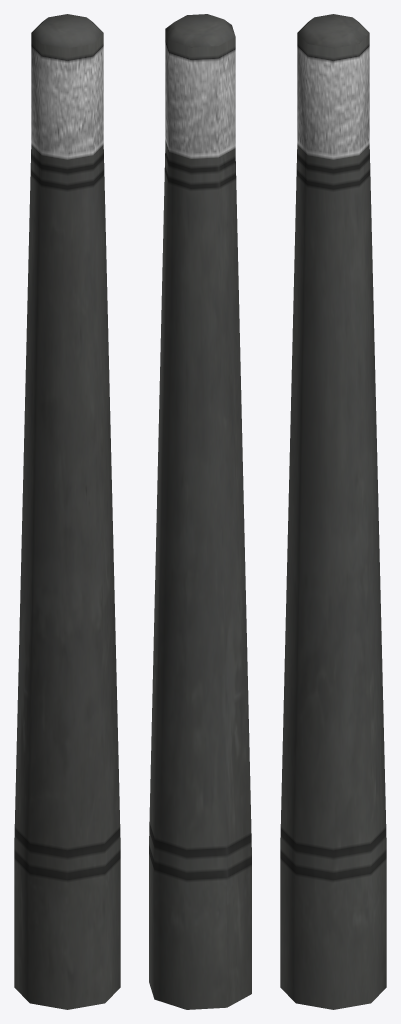
Rendered from Obj_QueuePost.FBX.
3 renders of one model, left to right at view 1: azimuth 90°, elevation 25°; view 2: azimuth 210°, elevation 25°; view 3: azimuth 270°, elevation 25°, orthographic.
Parts seen in each view (by area): view 1: QueuePost; view 2: QueuePost; view 3: QueuePost.
Part boxes in pixels (x1,y1,x2,y2): QueuePost: (14, 14, 120, 1009); QueuePost: (149, 14, 251, 1009); QueuePost: (280, 14, 386, 1009).
Size of the model in its own units: 0.2002 by 2 by 0.2002.
